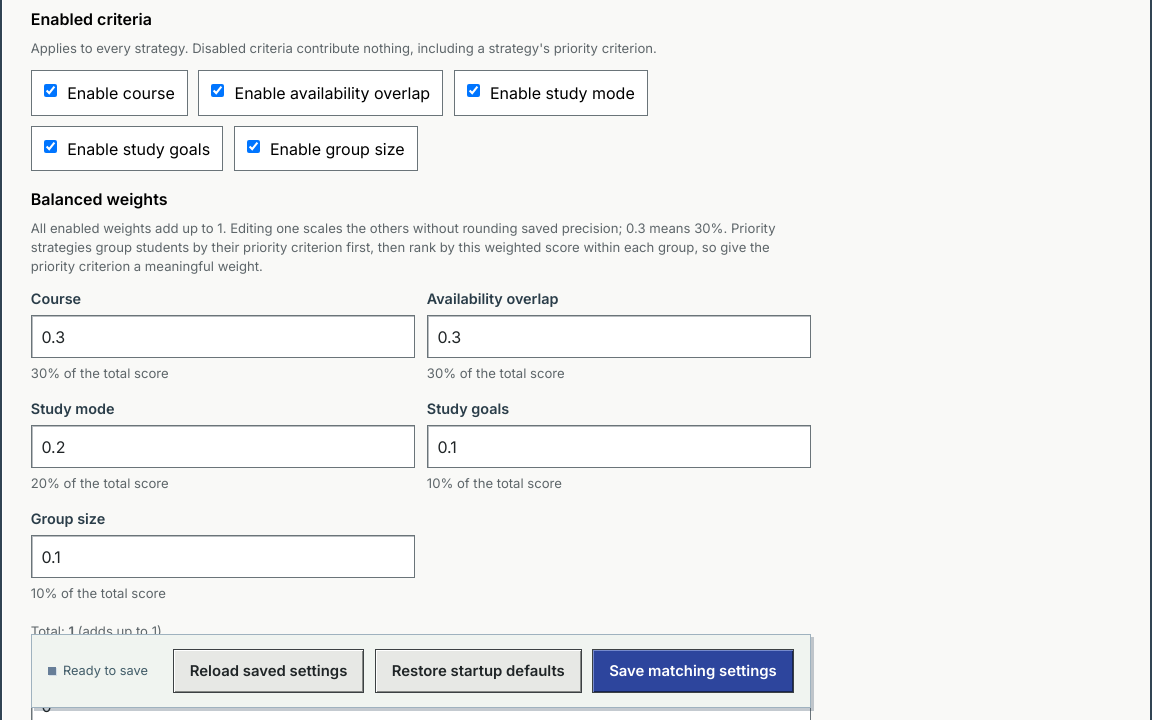
Test: admin matching settings › saves the chosen strategy and weights as numbers
(page scrolled)
Replace the text in the number field labelled "Course" with "0.4" at (223, 337), box [31,316,415,358]
(page scrolled)
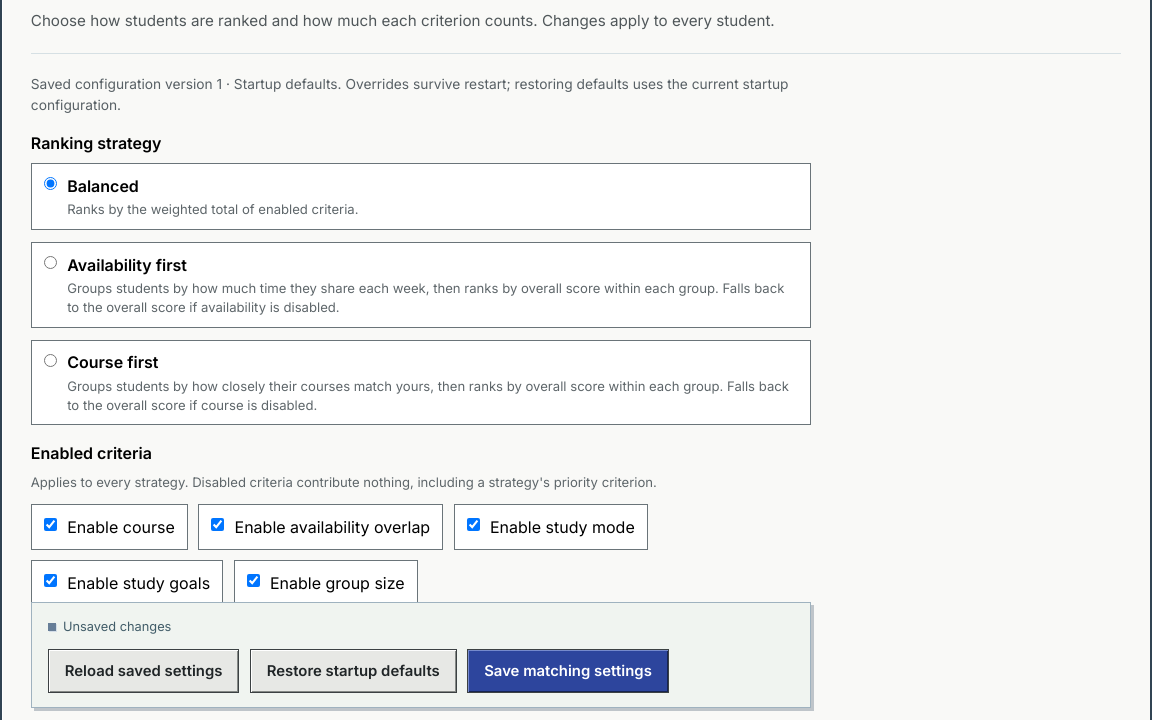
Click the radio button labelled "Course first" at (50, 360), box [44,354,57,366]
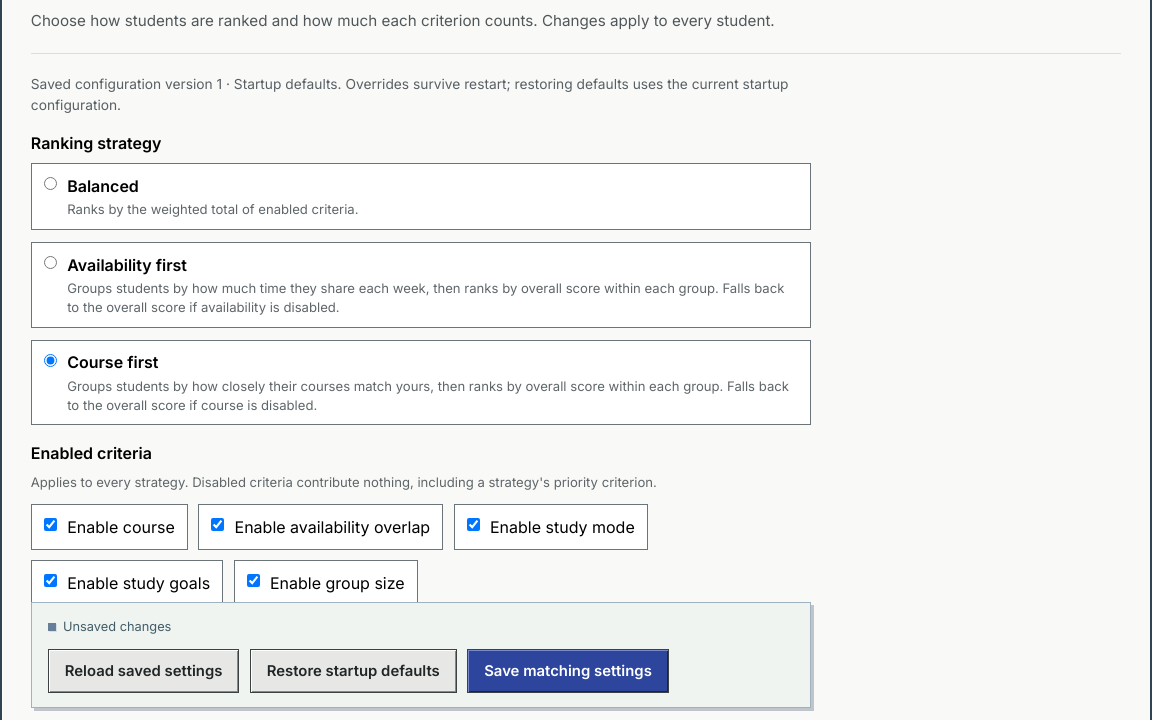
Now the text "Unsaved changes" is shown, box [48,617,171,637]
Click the button "Save matching settings" at (568, 671), box [467,649,669,693]
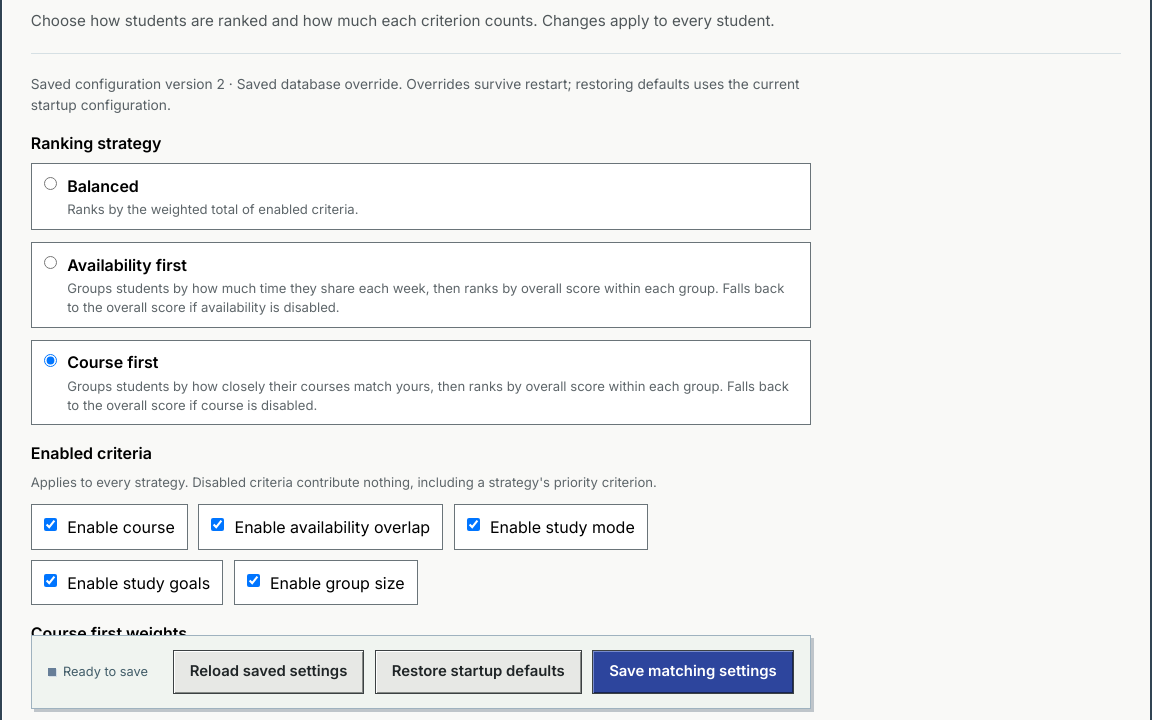
Now the text "Ready to save" is shown, box [48,662,148,681]
